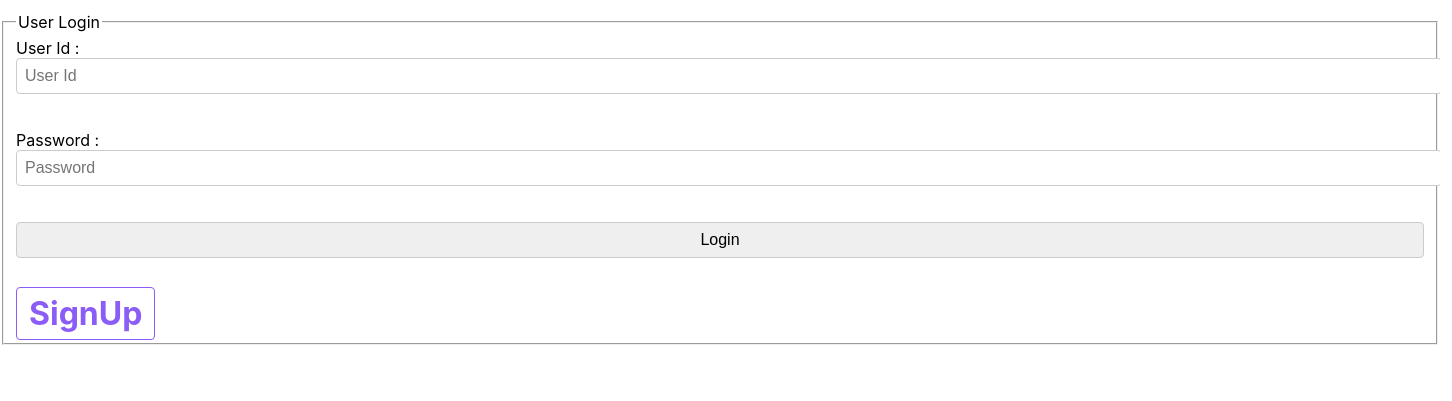
Login Component › incorrect credentials result
This screenshot has width=1452, height=401.
Step 1. Type "ashish" into the field with placeholder "User Id" → (728, 76), box [16,58,1440,94]
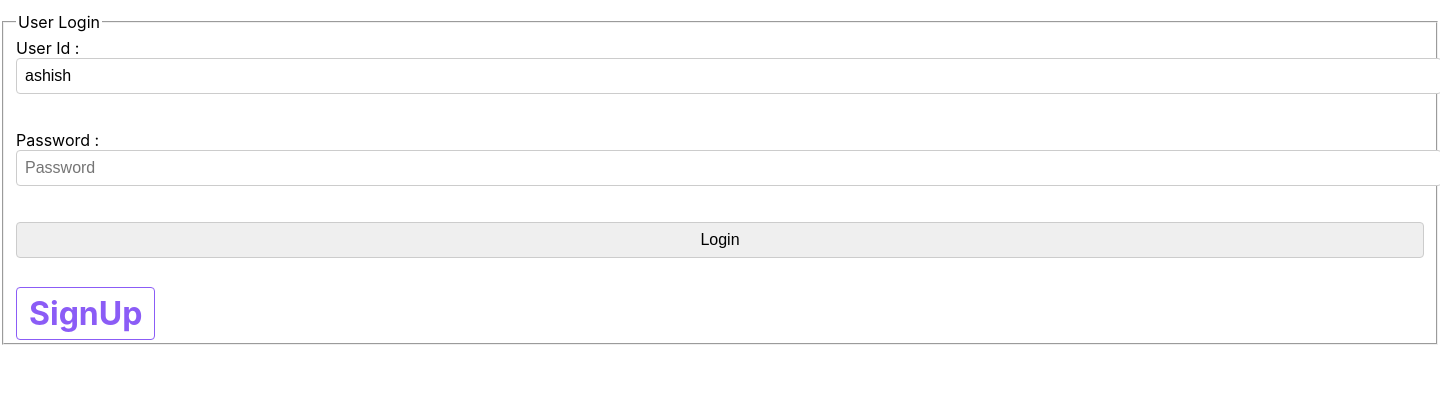
Step 2. Type "ashish123" into the password field with placeholder "Password" → (728, 168), box [16,150,1440,186]
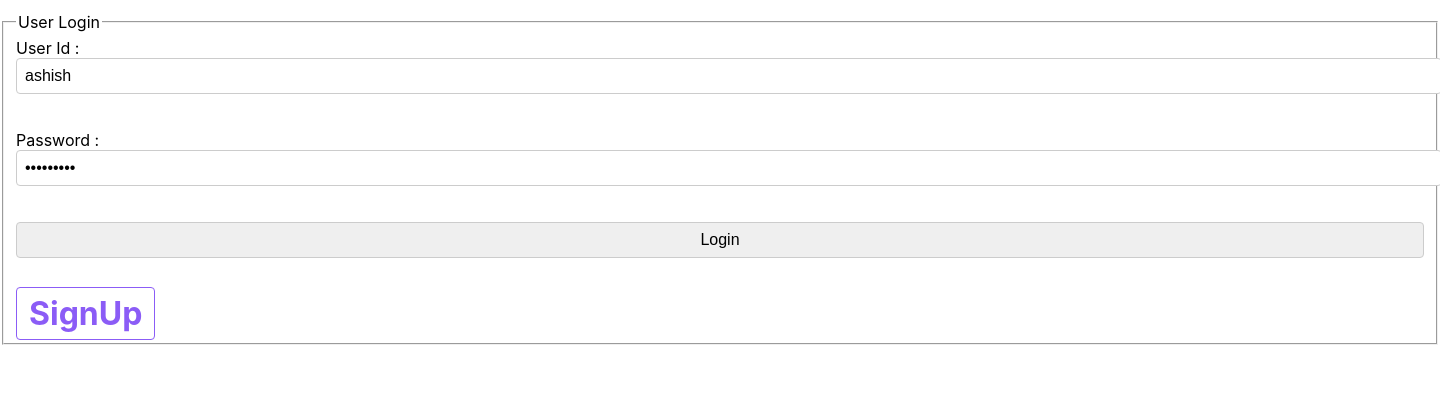
Step 3. Click the button "Login" → (720, 240), box [16,222,1424,258]
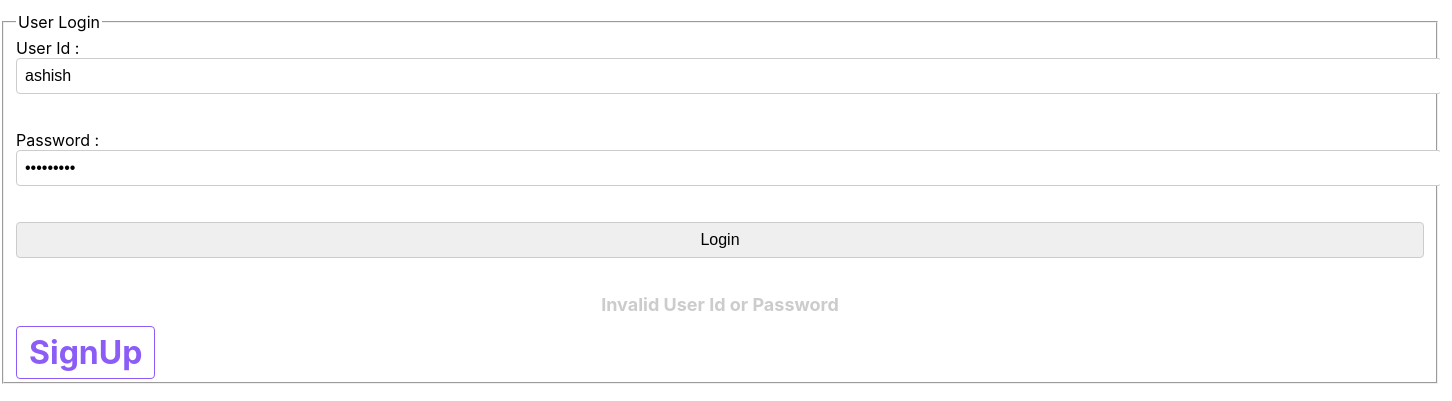
Result: the text "Invalid User Id or Password" is shown at [601,294,839,315]
